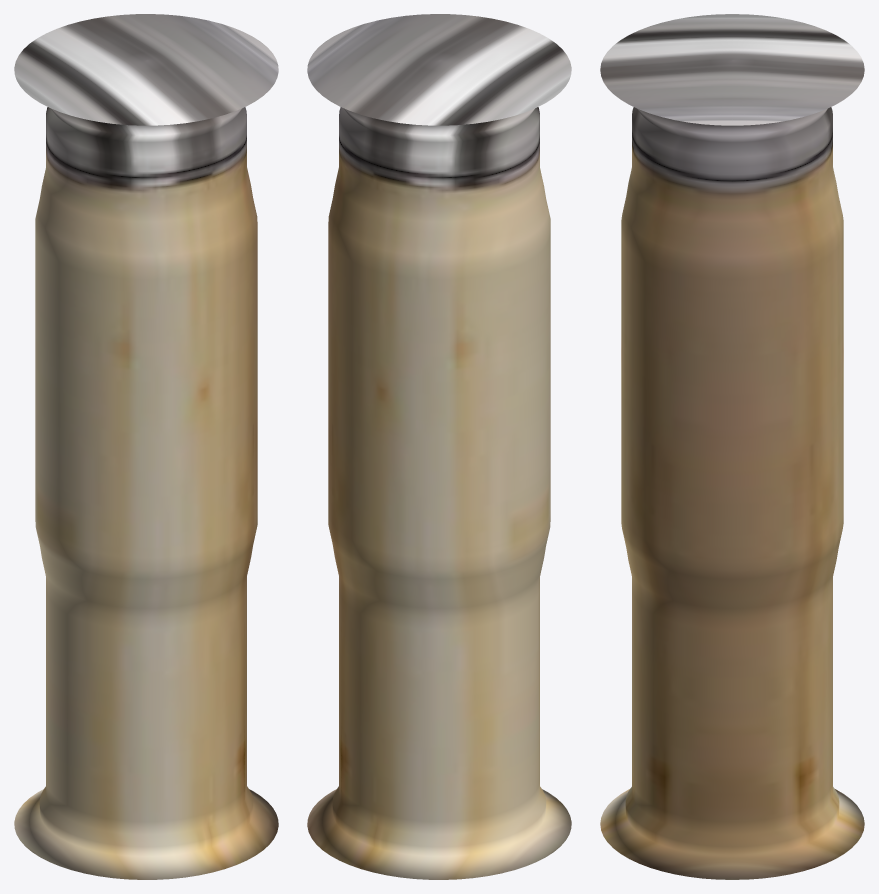
The picture shows the model from 3 angles, left to right: view 1: azimuth 30°, elevation 25°; view 2: azimuth 150°, elevation 25°; view 3: azimuth 270°, elevation 25°; orthographic projection.
Visible parts, largest first — view 1: RC-107; view 2: RC-107; view 3: RC-107.
Part boxes in pixels (<box>): RC-107: <box>14,14,278,879</box>; RC-107: <box>307,14,571,879</box>; RC-107: <box>600,14,864,879</box>.
Size of the model in its own units: 7.72 by 24.9 by 7.72.
1 material, 1 textured.
